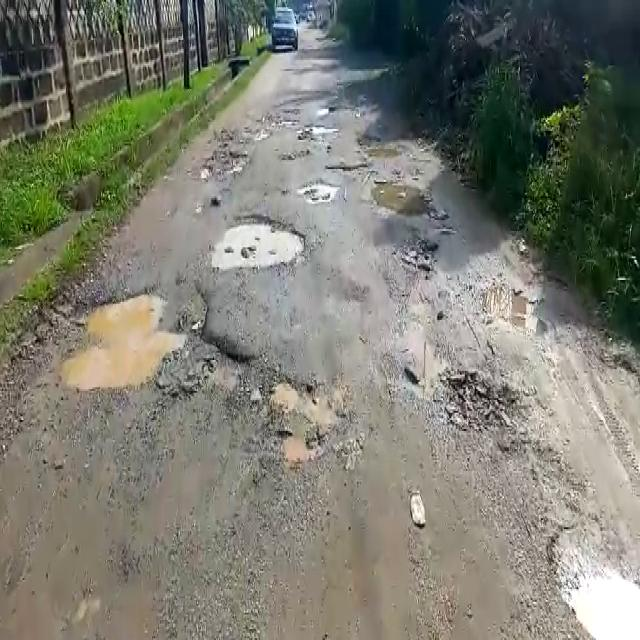Pothole: (54, 279, 253, 401), (545, 521, 639, 637), (253, 364, 351, 463), (434, 367, 528, 437), (217, 215, 313, 269), (479, 280, 554, 339), (368, 180, 436, 219), (198, 144, 254, 177), (294, 179, 339, 203), (324, 160, 374, 173)
